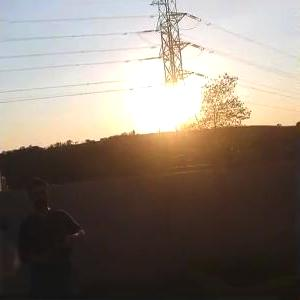follow: (12, 171, 90, 298)
